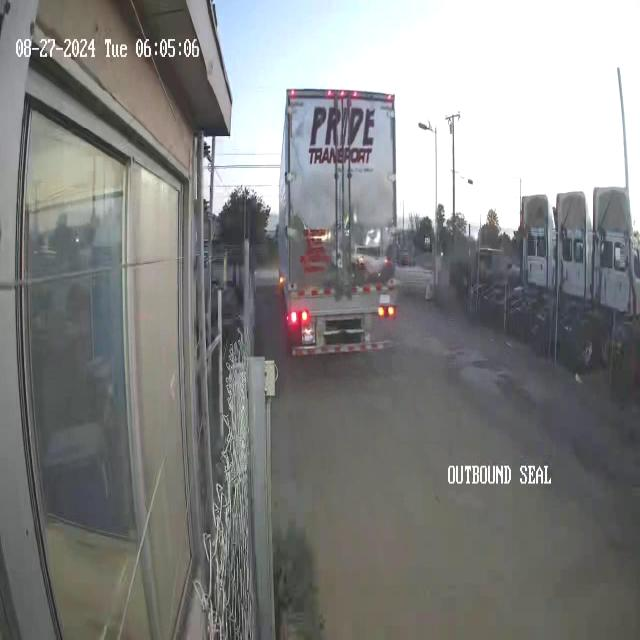TRUCK_CONTAINER: (275, 87, 399, 357)
